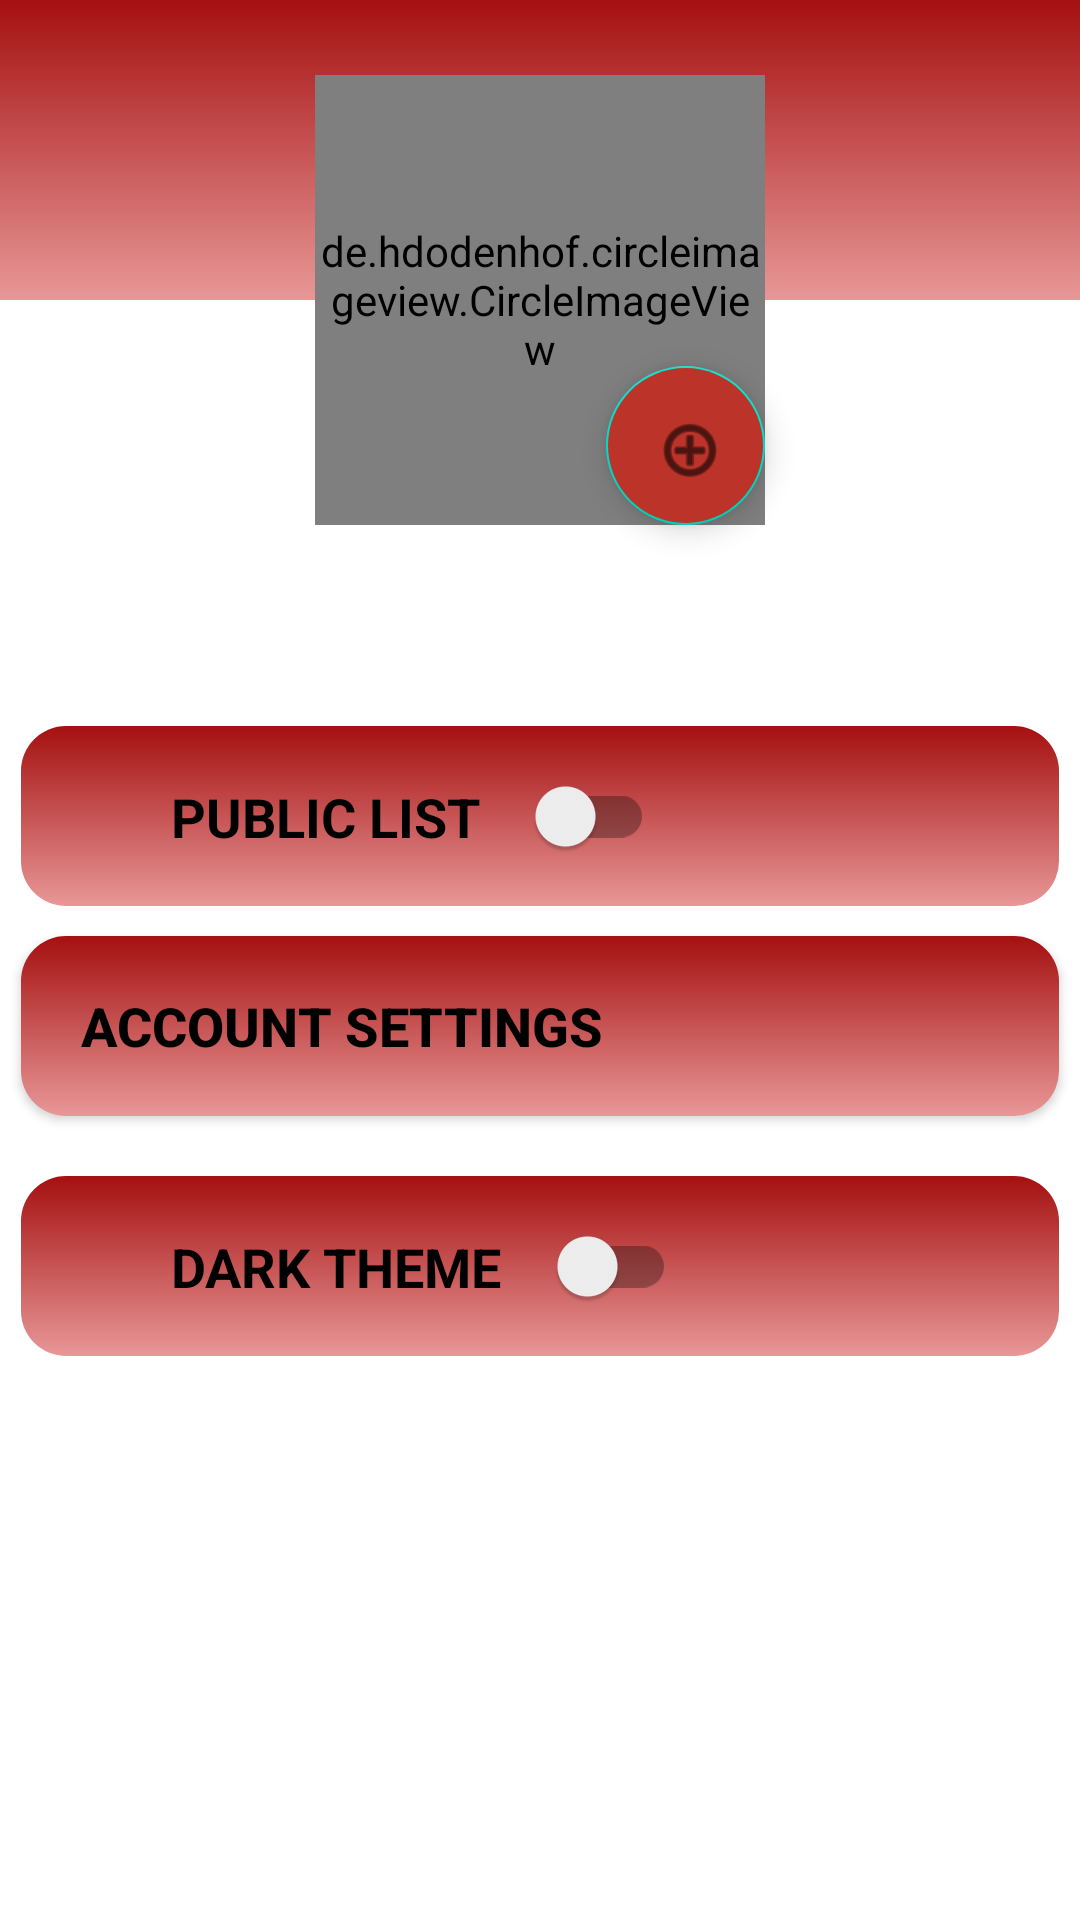

Named icons in this screenshot (1080*1920) and their centers, point (x, y):
add: point (685, 445)
